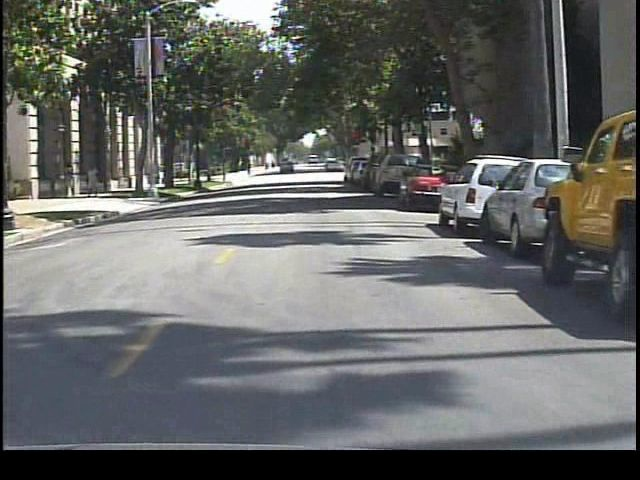person: (61, 157, 82, 199), (85, 160, 107, 199)
